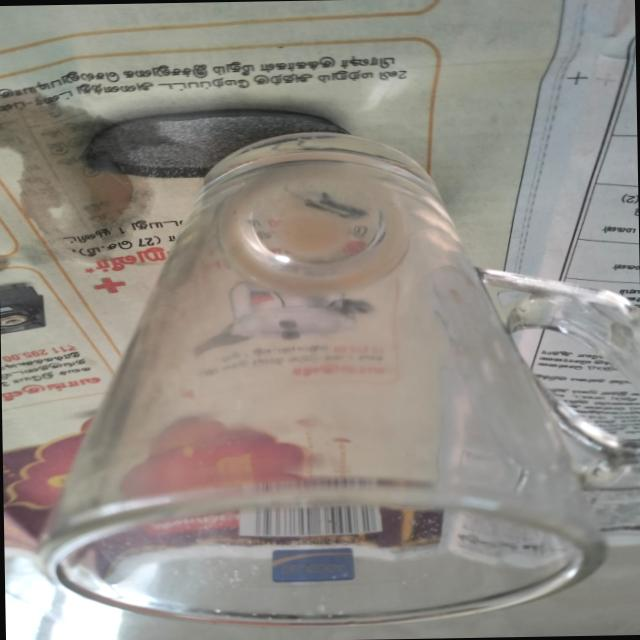glass-VX4N: (21, 148, 605, 638)
